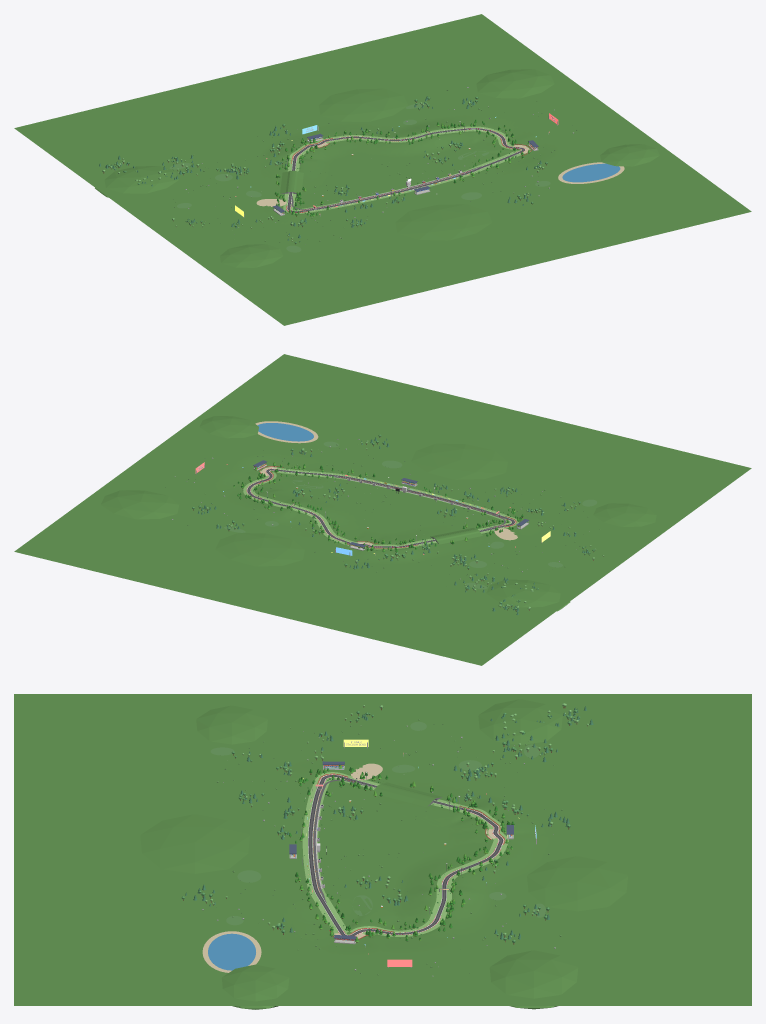
Rendered from GrandPrix.glb.
The picture shows the model from 3 angles, top to bottom: view 1: azimuth 30°, elevation 25°; view 2: azimuth 150°, elevation 25°; view 3: azimuth 270°, elevation 25°; orthographic projection. The views are drawn at different scales.
Parts seen in each view (by area): view 1: GroundGrass, Hill.005, Hill.004, Hill.003, Hill, Hill.002, Verge_R, Hill.001, Road, Verge_L, Lake, RacingLine; view 2: GroundGrass, Hill.005, Hill.004, Hill.003, Hill, Hill.002, Verge_R, Hill.001, Road, Verge_L, Lake, RacingLine; view 3: GroundGrass, Hill.005, Hill.004, Hill.003, Hill, Hill.002, Hill.001, Verge_R, Verge_L, Road, Lake, RacingLine (+2 smaller).
Part boxes in pixels (x1,y1,x2,y2): GroundGrass: (14,14,751,325); Hill.005: (395,204,492,240); Hill.004: (318,88,407,121); Hill.003: (476,69,554,98); Hill: (95,166,178,197); Hill.002: (220,244,282,267); Verge_R: (283,126,523,213); Hill.001: (600,144,659,166); Road: (287,128,524,212); Verge_L: (291,129,521,211); Lake: (562,163,620,182); RacingLine: (288,128,523,212); GroundGrass: (14,354,751,665); Hill.005: (411,443,507,479); Hill.004: (215,533,304,566); Hill.003: (101,490,178,519); Hill: (486,579,570,611); Hill.002: (593,503,656,526); Verge_R: (243,467,518,549); Hill.001: (199,416,258,438); Road: (247,469,514,547); Verge_L: (251,470,511,546); Lake: (257,423,313,441); RacingLine: (248,469,513,547); GroundGrass: (14,694,751,1005); Hill.005: (140,814,249,873); Hill.004: (527,856,627,911); Hill.003: (489,950,578,1009); Hill: (478,699,562,744); Hill.002: (196,705,267,744); Hill.001: (221,964,289,1009); Verge_R: (302,772,508,936); Verge_L: (312,777,498,934); Road: (308,775,503,935); Lake: (208,933,255,970); RacingLine: (309,775,501,935).
Size of the model in its own units: 2200 by 75.13 by 2200.
